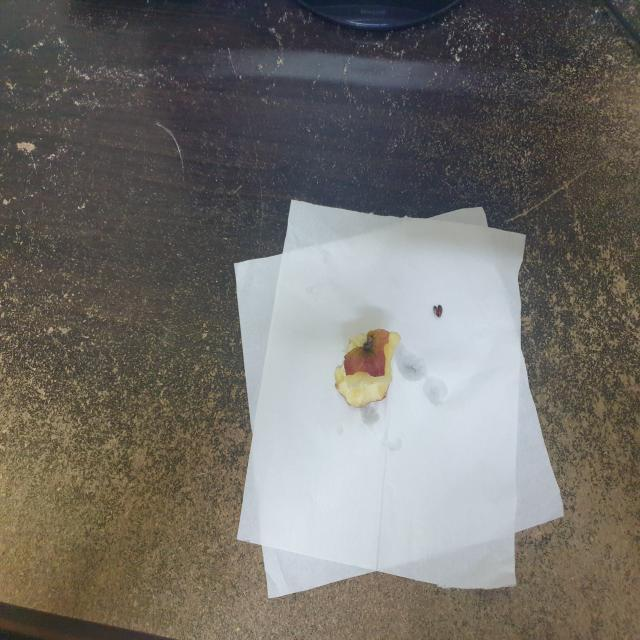apple: (330, 316, 408, 419)
